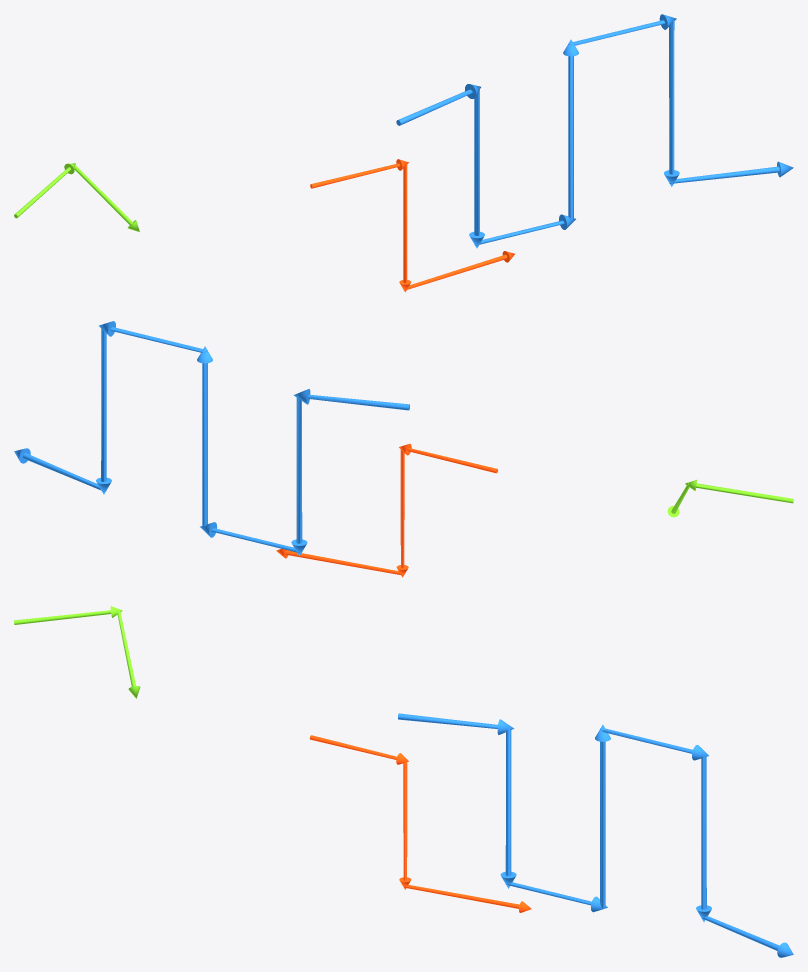
The model's file is ozonation_system_flow.glb.
3 renders of one model, top to bottom at view 1: azimuth 30°, elevation 25°; view 2: azimuth 150°, elevation 25°; view 3: azimuth 330°, elevation 25°, orthographic.
Parts seen in each view (by area): view 1: water.001, ozone, oxygen; view 2: water.001, ozone, oxygen; view 3: water.001, ozone, oxygen.
Part boxes in pixels (x1,y1,x2,y2): water.001: (396, 14, 793, 248); ozone: (310, 159, 514, 292); oxygen: (14, 163, 139, 231); water.001: (14, 321, 409, 556); ozone: (276, 443, 498, 577); oxygen: (667, 480, 793, 517); water.001: (398, 713, 793, 957); ozone: (309, 735, 531, 912); oxygen: (14, 606, 140, 698).
Size of the model in its own units: 5.8 by 1.43 by 0.354.
